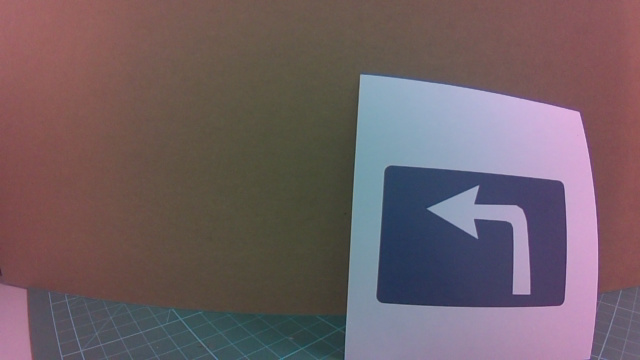left: (361, 152, 580, 323)
